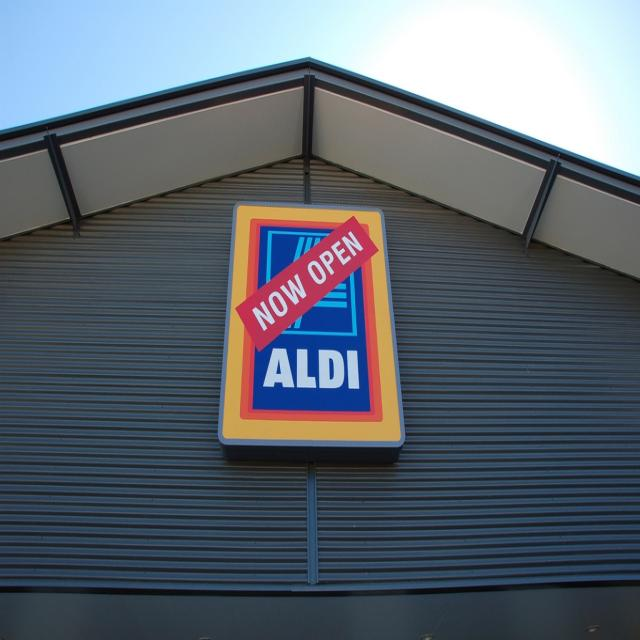aldi: (224, 205, 402, 443)
